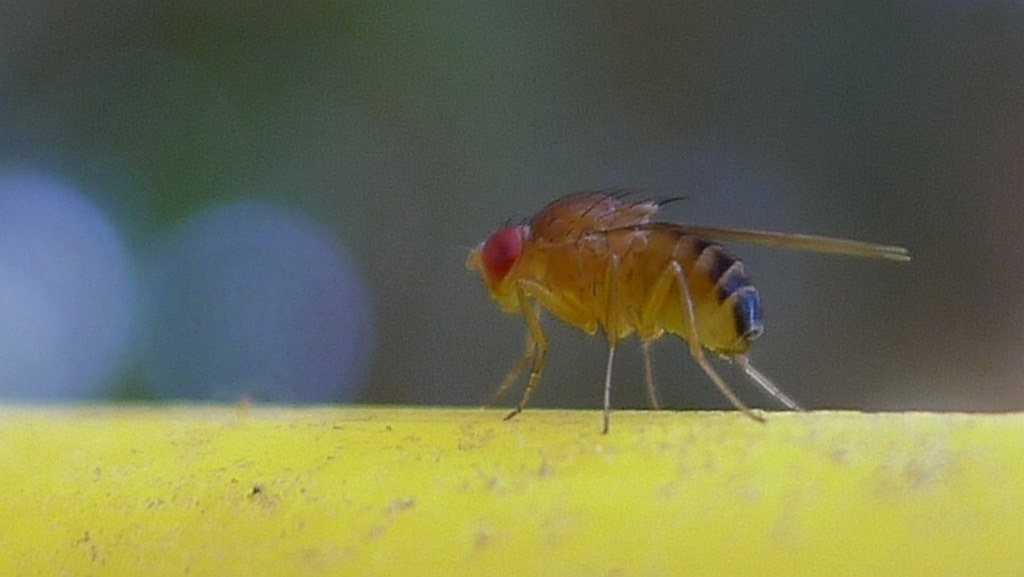insect: (441, 188, 907, 436)
